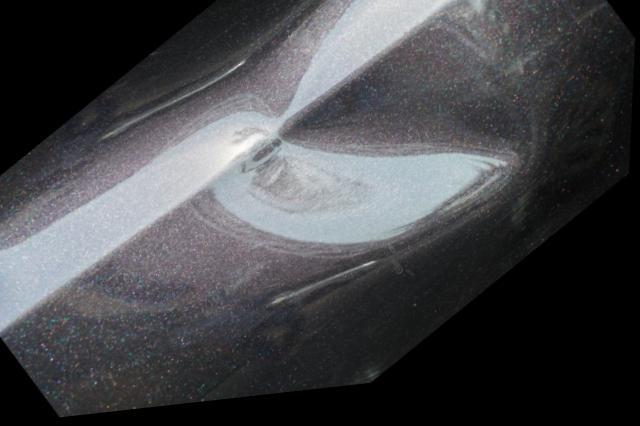dent: (179, 102, 540, 266)
